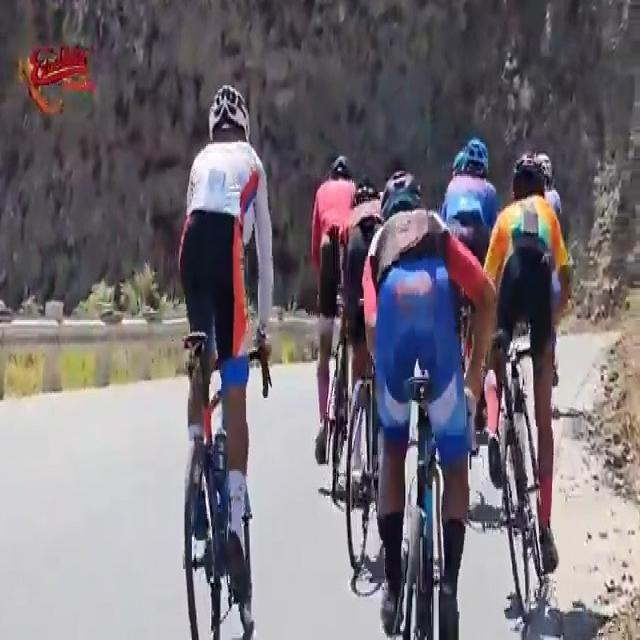bike: (178, 77, 278, 640), (365, 169, 464, 640), (489, 155, 561, 608), (339, 178, 391, 572), (312, 150, 359, 512)
